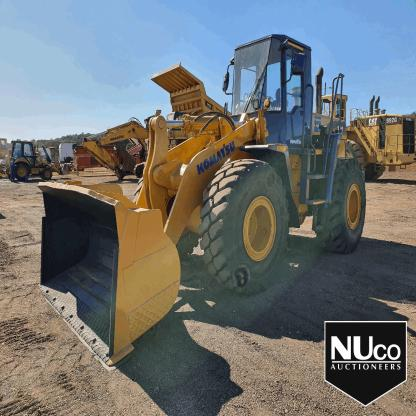bull_dozer/loader/grader: (32, 27, 368, 369)
